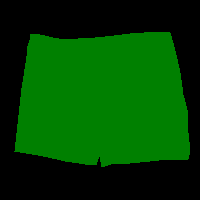mutande: (14, 32, 190, 167)
